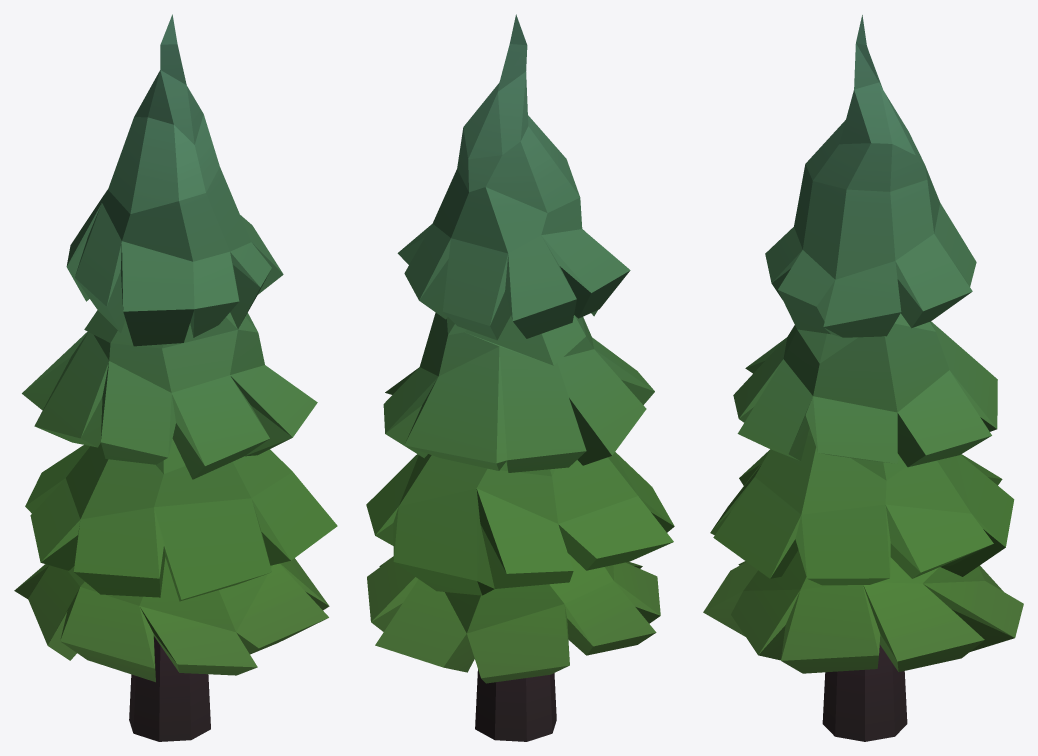
The model's file is woodland_spruce_2.glb.
The picture shows the model from 3 angles, left to right: view 1: azimuth 30°, elevation 25°; view 2: azimuth 150°, elevation 25°; view 3: azimuth 270°, elevation 25°; orthographic projection.
Visible parts, largest first — view 1: Cone, Cylinder; view 2: Cone, Cylinder; view 3: Cone, Cylinder.
Boxes of the visible parts, box(x1,y1,x2,y2) form: Cone: box(14, 14, 337, 682); Cylinder: box(129, 636, 210, 741); Cone: box(366, 14, 674, 683); Cylinder: box(475, 669, 556, 741); Cone: box(703, 15, 1023, 673); Cylinder: box(822, 644, 907, 741).
Bounding box in the file's own units: 2.97 × 7.28 × 2.98.
Materials: 1 (1 with a texture image).
